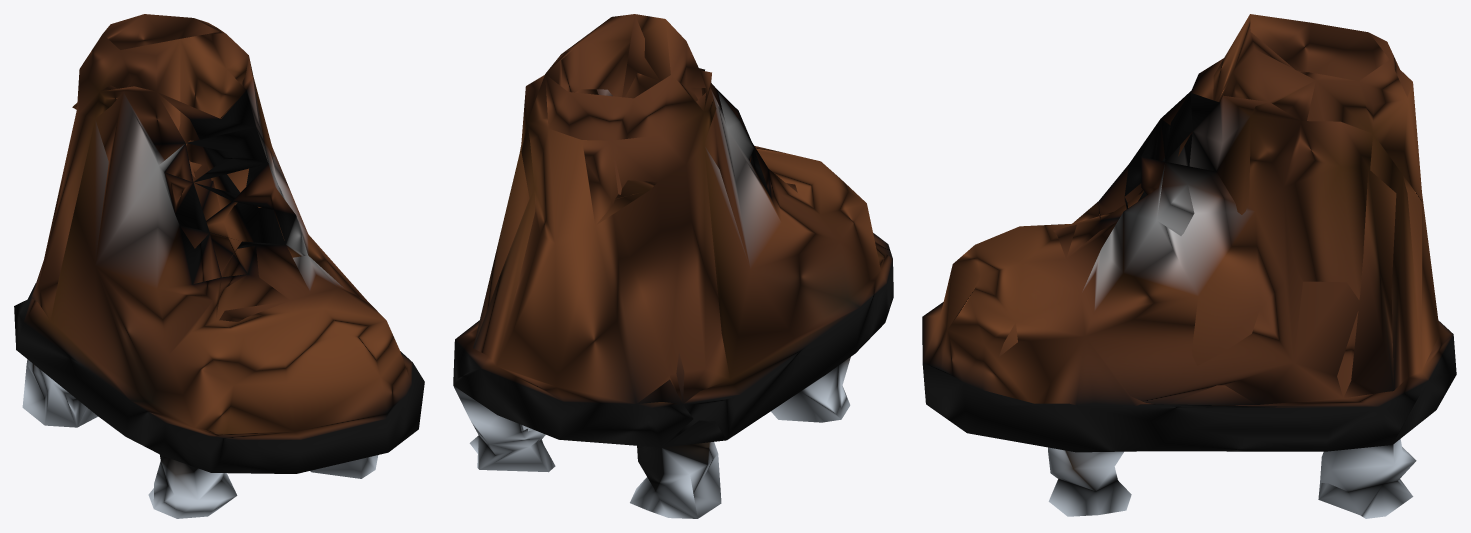
File: gen3d-spring-shoe-lod1.glb
3 renders of one model, left to right at view 1: azimuth 30°, elevation 25°; view 2: azimuth 150°, elevation 25°; view 3: azimuth 270°, elevation 25°, orthographic. The views are drawn at different scales.
Visible parts, largest first — view 1: part_0; view 2: part_0; view 3: part_0.
Part boxes in pixels (<box>): part_0: <box>14,14,424,518</box>; part_0: <box>453,14,893,518</box>; part_0: <box>922,14,1456,518</box>.
Bounding box in the file's own units: 0.6865 × 0.9992 × 1.09.
